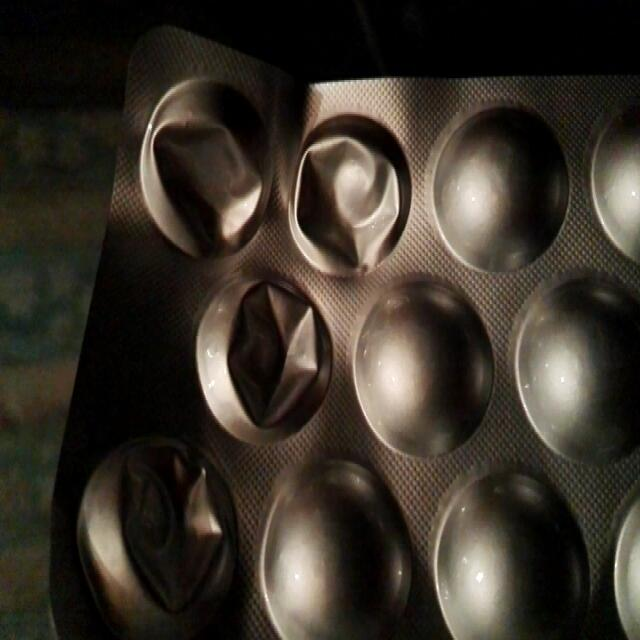Empty: (73, 439, 250, 640), (124, 55, 268, 260), (184, 258, 336, 442), (279, 95, 417, 278)
Pill: (428, 453, 601, 640), (254, 457, 416, 640), (503, 268, 640, 470), (420, 94, 572, 268), (354, 283, 499, 452), (572, 85, 640, 290), (603, 458, 640, 640)
